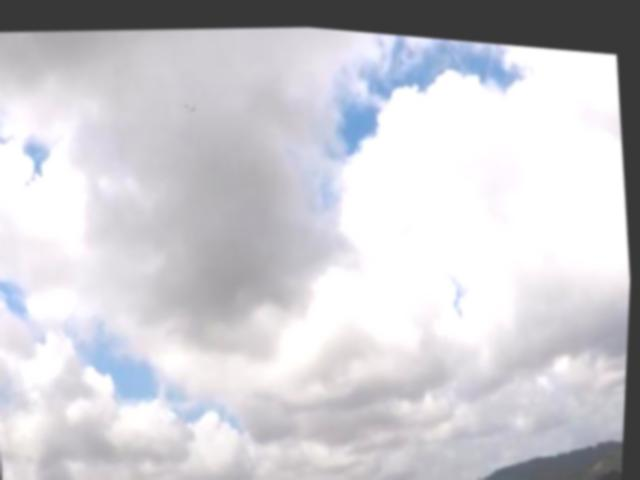iha: (183, 93, 201, 112)
